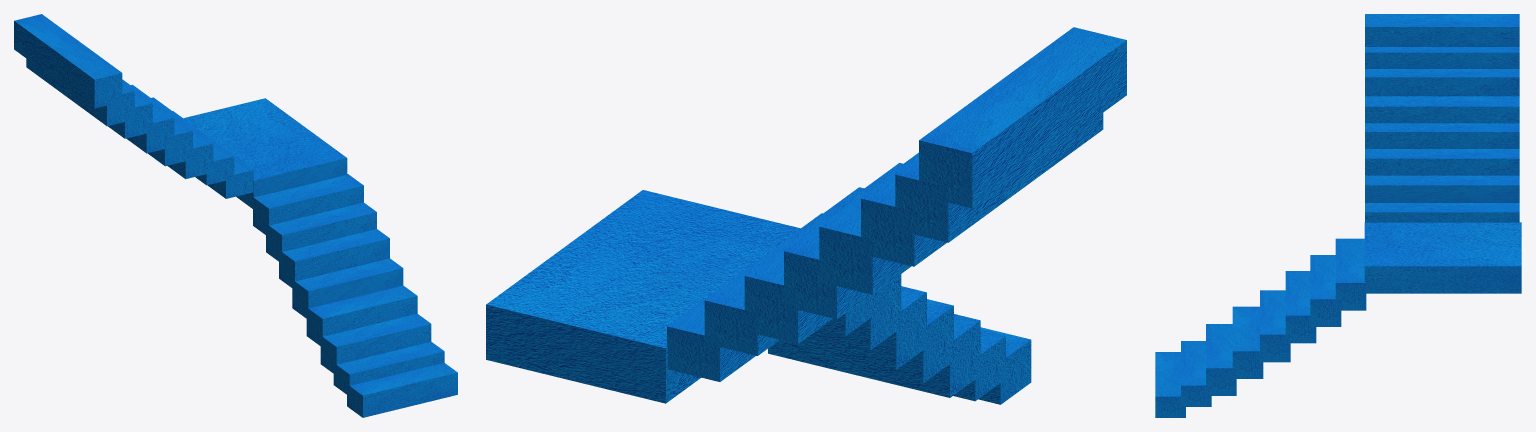
File: escalera01.fbx
3 views of the same model, side by side, from view 1: azimuth 30°, elevation 25°; view 2: azimuth 150°, elevation 25°; view 3: azimuth 270°, elevation 25° (orthographic). The views are drawn at different scales.
Visible parts, largest first — view 1: escalera; view 2: escalera; view 3: escalera.
Boxes of the visible parts, x1=… form: escalera: x1=14, y1=14, x2=457, y2=417; escalera: x1=486, y1=27, x2=1126, y2=404; escalera: x1=1155, y1=14, x2=1521, y2=417.
Size of the model in its own units: 904 by 1011 by 1177.
Materials: 17 (17 with a texture image).
